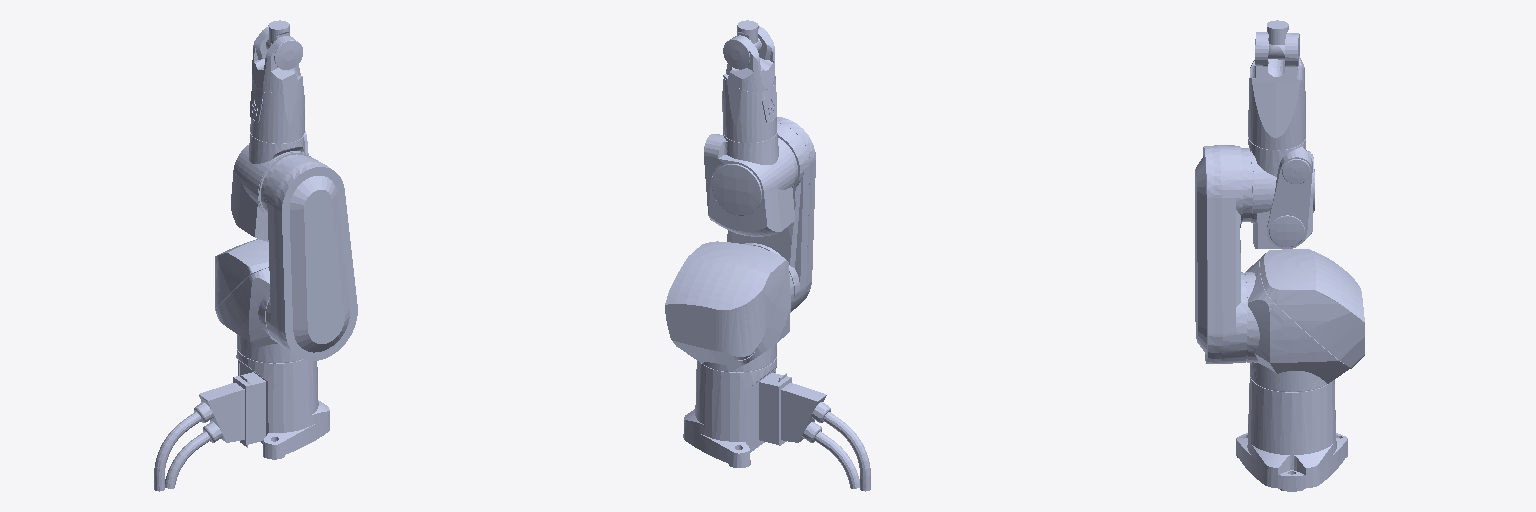
URDF robot description (RX60B-HB_5):
<robot
  name="RX60B-HB_5">
  <link
    name="base_link">
    <inertial>
      <origin
        xyz="0.21532 0.15015 -0.22612"
        rpy="0 0 0" />
      <mass
        value="5.9088" />
      <inertia
        ixx="0.03296"
        ixy="0.0030847"
        ixz="0.0025234"
        iyy="0.052353"
        iyz="0.00040062"
        izz="0.044104" />
    </inertial>
    <visual>
      <origin
        xyz="0 0 0"
        rpy="0 0 0" />
      <geometry>
        <mesh
          filename="package://rx60b_description/meshes/base_link.STL" />
      </geometry>
      <material
        name="">
        <color
          rgba="0.79216 0.81961 0.93333 1" />
      </material>
    </visual>
    <collision>
      <origin
        xyz="0 0 0"
        rpy="0 0 0" />
      <geometry>
        <mesh
          filename="package://rx60b_description/meshes/base_link.STL" />
      </geometry>
    </collision>
  </link>
  <link
    name="shoulder">
    <inertial>
      <origin
        xyz="-0.0013733 -0.016618 0.0090694"
        rpy="0 0 0" />
      <mass
        value="9.5013" />
      <inertia
        ixx="0.073083"
        ixy="0.0014723"
        ixz="-0.00012426"
        iyy="0.066123"
        iyz="0.00035551"
        izz="0.065589" />
    </inertial>
    <visual>
      <origin
        xyz="0 0 0"
        rpy="0 0 0" />
      <geometry>
        <mesh
          filename="package://rx60b_description/meshes/shoulder.STL" />
      </geometry>
      <material
        name="">
        <color
          rgba="0.79216 0.81961 0.93333 1" />
      </material>
    </visual>
    <collision>
      <origin
        xyz="0 0 0"
        rpy="0 0 0" />
      <geometry>
        <mesh
          filename="package://rx60b_description/meshes/shoulder.STL" />
      </geometry>
    </collision>
  </link>
  <joint
    name="a1"
    type="revolute">
    <origin
      xyz="0.23001 0.15429 0"
      rpy="-1.0626E-14 5.6214E-16 -3.0845" />
    <parent
      link="base_link" />
    <child
      link="shoulder" />
    <axis
      xyz="0 0 -1" />
    <limit
      lower="-3"
      upper="3"
      effort="0"
      velocity="1" />
  </joint>
  <link
    name="arm">
    <inertial>
      <origin
        xyz="5.09561360495514E-06 -0.138196109283885 0.0727835682857448"
        rpy="0 0 0" />
      <mass
        value="6.66134403436103" />
      <inertia
        ixx="0.112308267271819"
        ixy="-2.73734160437738E-06"
        ixz="-1.15550456006135E-06"
        iyy="0.0190536219451268"
        iyz="0.0017369325750092"
        izz="0.121590225497977" />
    </inertial>
    <visual>
      <origin
        xyz="0 0 0"
        rpy="0 0 0" />
      <geometry>
        <mesh
          filename="package://rx60b_description/meshes/arm.STL" />
      </geometry>
      <material
        name="">
        <color
          rgba="0.792156862745098 0.819607843137255 0.933333333333333 1" />
      </material>
    </visual>
    <collision>
      <origin
        xyz="0 0 0"
        rpy="0 0 0" />
      <geometry>
        <mesh
          filename="package://rx60b_description/meshes/arm.STL" />
      </geometry>
    </collision>
  </link>
  <joint
    name="a2"
    type="revolute">
    <origin
      xyz="0 0.070336 0.016437"
      rpy="-1.5708 0.074221 -2.8389E-15" />
    <parent
      link="shoulder" />
    <child
      link="arm" />
    <axis
      xyz="0 0 -1" />
    <limit
      lower="-3"
      upper="3"
      effort="0"
      velocity="1" />
  </joint>
  <link
    name="elbow">
    <inertial>
      <origin
        xyz="-0.00358959488339952 0.011742854715135 -0.0487496412667112"
        rpy="0 0 0" />
      <mass
        value="3.98888567041493" />
      <inertia
        ixx="0.0205200699386537"
        ixy="0.000592974161310205"
        ixz="0.000377564056723"
        iyy="0.0117855859259791"
        iyz="0.000110785281844027"
        izz="0.0227045828440842" />
    </inertial>
    <visual>
      <origin
        xyz="0 0 0"
        rpy="0 0 0" />
      <geometry>
        <mesh
          filename="package://rx60b_description/meshes/elbow.STL" />
      </geometry>
      <material
        name="">
        <color
          rgba="0.792156862745098 0.819607843137255 0.933333333333333 1" />
      </material>
    </visual>
    <collision>
      <origin
        xyz="0 0 0"
        rpy="0 0 0" />
      <geometry>
        <mesh
          filename="package://rx60b_description/meshes/elbow.STL" />
      </geometry>
    </collision>
  </link>
  <joint
    name="a3"
    type="revolute">
    <origin
      xyz="0 -0.29 0"
      rpy="1.3921E-16 -2.0886E-15 -0.10856" />
    <parent
      link="arm" />
    <child
      link="elbow" />
    <axis
      xyz="0 0 -1" />
    <limit
      lower="-3"
      upper="3"
      effort="0"
      velocity="1" />
  </joint>
  <link
    name="forearm">
    <inertial>
      <origin
        xyz="-0.00362144594215283 -2.9698928546984E-07 0.09198652379704"
        rpy="0 0 0" />
      <mass
        value="1.77031626695819" />
      <inertia
        ixx="0.00716597091084717"
        ixy="-5.17448849713482E-08"
        ixz="-0.000290977080636069"
        iyy="0.00679986797473403"
        iyz="3.1802177170113E-08"
        izz="0.00287950382626037" />
    </inertial>
    <visual>
      <origin
        xyz="0 0 0"
        rpy="0 0 0" />
      <geometry>
        <mesh
          filename="package://rx60b_description/meshes/forearm.STL" />
      </geometry>
      <material
        name="">
        <color
          rgba="0.792156862745098 0.819607843137255 0.933333333333333 1" />
      </material>
    </visual>
    <collision>
      <origin
        xyz="0 0 0"
        rpy="0 0 0" />
      <geometry>
        <mesh
          filename="package://rx60b_description/meshes/forearm.STL" />
      </geometry>
    </collision>
  </link>
  <joint
    name="a4"
    type="revolute">
    <origin
      xyz="0 -0.10574 -0.040836"
      rpy="-1.5708 -0.11533 3.1416" />
    <parent
      link="elbow" />
    <child
      link="forearm" />
    <axis
      xyz="0 0 -1" />
    <limit
      lower="-3"
      upper="3"
      effort="0"
      velocity="1" />
  </joint>
  <link
    name="wrist">
    <inertial>
      <origin
        xyz="0.0149889993161522 1.64276681174913E-07 -0.000500004042091634"
        rpy="0 0 0" />
      <mass
        value="0.137404827201104" />
      <inertia
        ixx="4.48923214834327E-05"
        ixy="6.92841234616249E-10"
        ixz="-2.69590690810833E-11"
        iyy="8.24613181959874E-05"
        iyz="-4.67820193615198E-10"
        izz="7.87260550277366E-05" />
    </inertial>
    <visual>
      <origin
        xyz="0 0 0"
        rpy="0 0 0" />
      <geometry>
        <mesh
          filename="package://rx60b_description/meshes/wrist.STL" />
      </geometry>
      <material
        name="">
        <color
          rgba="0.792156862745098 0.819607843137255 0.933333333333333 1" />
      </material>
    </visual>
    <collision>
      <origin
        xyz="0 0 0"
        rpy="0 0 0" />
      <geometry>
        <mesh
          filename="package://rx60b_description/meshes/wrist.STL" />
      </geometry>
    </collision>
  </link>
  <joint
    name="a5"
    type="revolute">
    <origin
      xyz="0 0 0.20326"
      rpy="-1.5708 -1.4997 3.1416" />
    <parent
      link="forearm" />
    <child
      link="wrist" />
    <axis
      xyz="0 0 -1" />
    <limit
      lower="-3"
      upper="3"
      effort="0"
      velocity="1" />
  </joint>
  <link
    name="tool_flange">
    <inertial>
      <origin
        xyz="-0.000173643923643052 -4.85722573273506E-16 0.00423446250465342"
        rpy="0 0 0" />
      <mass
        value="0.0124666250476077" />
      <inertia
        ixx="1.50471210552417E-06"
        ixy="-3.17637355220363E-22"
        ixz="-3.54123317955345E-09"
        iyy="1.47024133861622E-06"
        iyz="5.18476807948238E-21"
        izz="2.7793500021798E-06" />
    </inertial>
    <visual>
      <origin
        xyz="0 0 0"
        rpy="0 0 0" />
      <geometry>
        <mesh
          filename="package://rx60b_description/meshes/tool_flange.STL" />
      </geometry>
      <material
        name="">
        <color
          rgba="0.792156862745098 0.819607843137255 0.933333333333333 1" />
      </material>
    </visual>
    <collision>
      <origin
        xyz="0 0 0"
        rpy="0 0 0" />
      <geometry>
        <mesh
          filename="package://rx60b_description/meshes/tool_flange.STL" />
      </geometry>
    </collision>
  </link>
  <joint
    name="a6"
    type="revolute">
    <origin
      xyz="0.05463 0 -0.0005"
      rpy="1.5708 -0.48677 1.5708" />
    <parent
      link="wrist" />
    <child
      link="tool_flange" />
    <axis
      xyz="0 0 -1" />
    <limit
      lower="-3"
      upper="3"
      effort="0"
      velocity="1" />
  </joint>
</robot>

--- Facts derived from the render (not from the file) ---
3 views of the same robot in one strip: view 1: azimuth 30°, elevation 25°; view 2: azimuth 150°, elevation 25°; view 3: azimuth 270°, elevation 25° (orthographic).
Model RX60B-HB_5 with 7 links and 6 joints (6 revolute), rooted at base_link, posed all joints at 0.
Links seen in each view (by area): view 1: arm, base_link, shoulder, forearm, elbow; view 2: shoulder, base_link, elbow, forearm, arm; view 3: shoulder, arm, base_link, elbow, forearm, wrist.
Boxes of the visible links, x1=… form: arm: x1=261, y1=154, x2=357, y2=360; base_link: x1=154, y1=349, x2=329, y2=491; shoulder: x1=215, y1=239, x2=301, y2=363; forearm: x1=250, y1=26, x2=304, y2=142; elbow: x1=231, y1=131, x2=310, y2=241; shoulder: x1=665, y1=241, x2=793, y2=372; base_link: x1=683, y1=357, x2=870, y2=491; elbow: x1=704, y1=133, x2=795, y2=236; forearm: x1=722, y1=26, x2=776, y2=141; arm: x1=727, y1=117, x2=815, y2=311; shoulder: x1=1244, y1=249, x2=1364, y2=391; arm: x1=1195, y1=145, x2=1252, y2=363; base_link: x1=1236, y1=377, x2=1347, y2=491; elbow: x1=1248, y1=137, x2=1314, y2=248; forearm: x1=1248, y1=32, x2=1305, y2=148; wrist: x1=1267, y1=20, x2=1288, y2=59.
Size in the robot's own frame: 0.4382 by 0.3476 by 1.04 metres.
Meshes: 7 distinct files referenced, 6 mesh visuals loaded (6 binary STL); not drawn: 1 (reference not matched to a file when rendering).